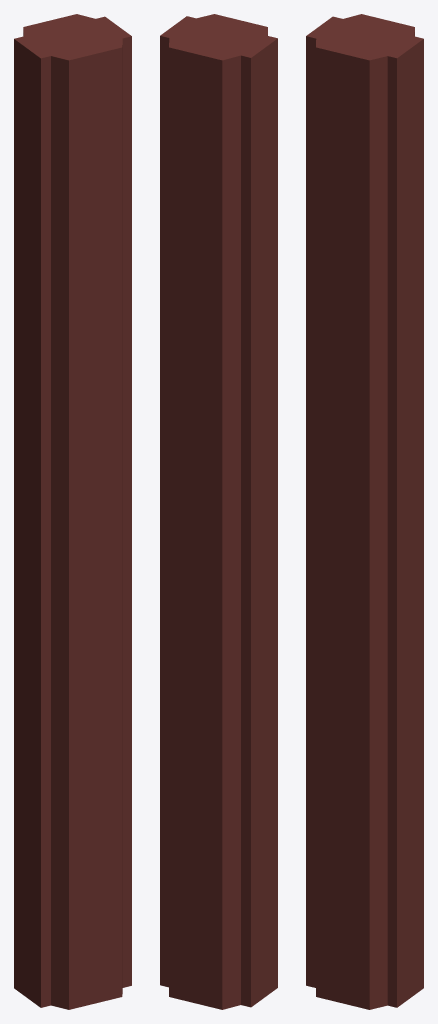
File: wall beam.fbx
3 renders of one model, left to right at view 1: azimuth 30°, elevation 25°; view 2: azimuth 150°, elevation 25°; view 3: azimuth 330°, elevation 25°, orthographic.
Visible parts, largest first — view 1: wall beam; view 2: wall beam; view 3: wall beam.
Part boxes in pixels (x1,y1,x2,y2): wall beam: (14, 14, 131, 1009); wall beam: (160, 14, 277, 1009); wall beam: (306, 14, 423, 1009).
Bounding box in the file's own units: 310 × 3087 × 269.
